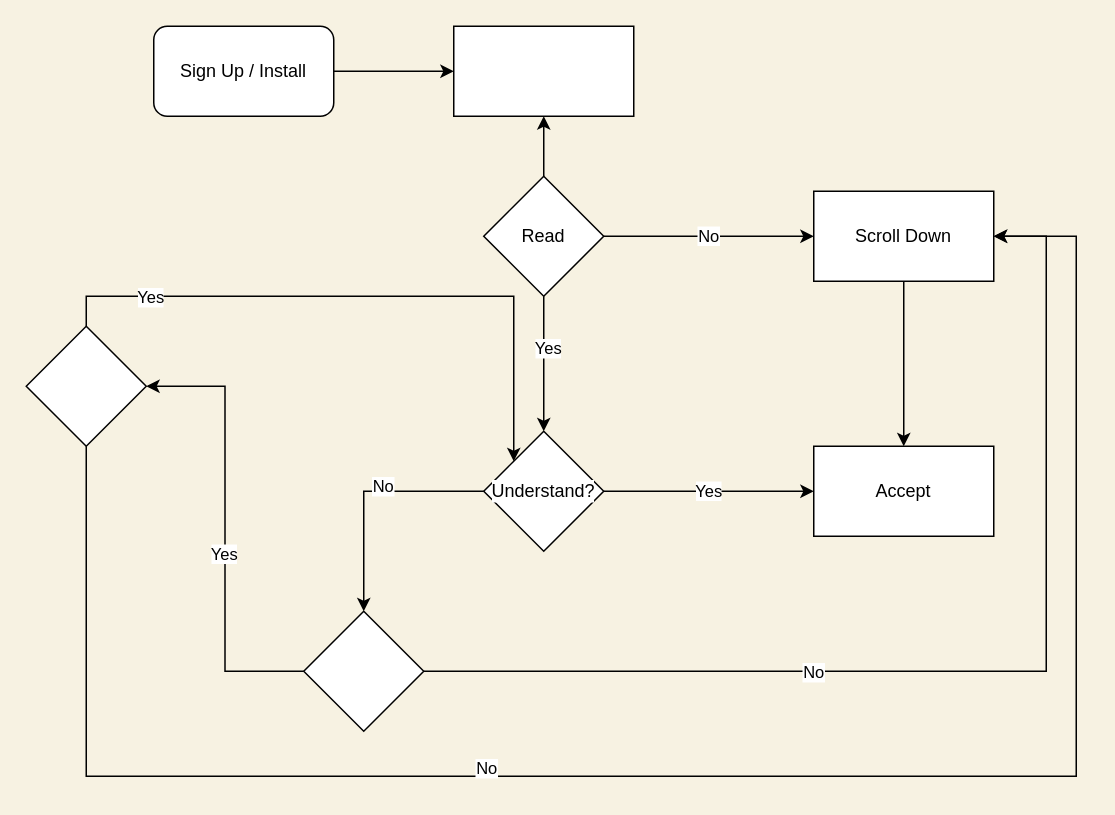
The diagram is 1115 pixels wide and 815 high, and some of its shapes have lost their labels. The shapes that lost their labels are listed below. From the top down, each one's centre as x and y in pixels, then its label:
At (543,70): "ToS Agreement".
At (85,385): "Read Again?".
At (363,670): "Does That Matter?".
